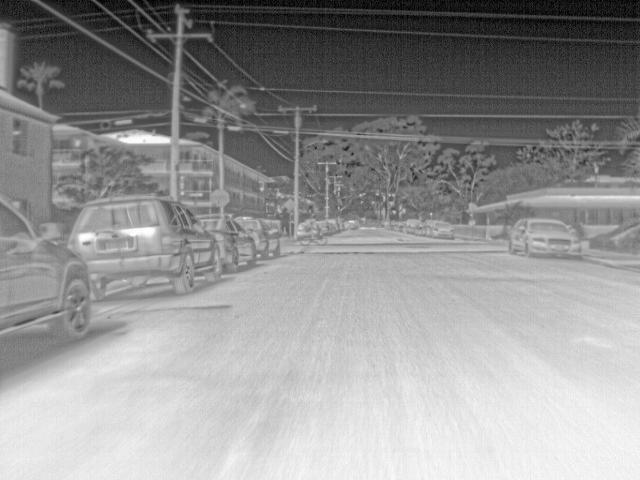car: (65, 198, 222, 300), (1, 195, 92, 352), (192, 214, 258, 272), (510, 216, 583, 260), (234, 218, 280, 258), (426, 220, 456, 240), (404, 218, 422, 234), (416, 220, 431, 237), (325, 218, 337, 236), (333, 218, 346, 232), (317, 220, 328, 234), (386, 220, 398, 232), (394, 220, 406, 232), (344, 220, 357, 230)
person: (304, 218, 316, 234)
